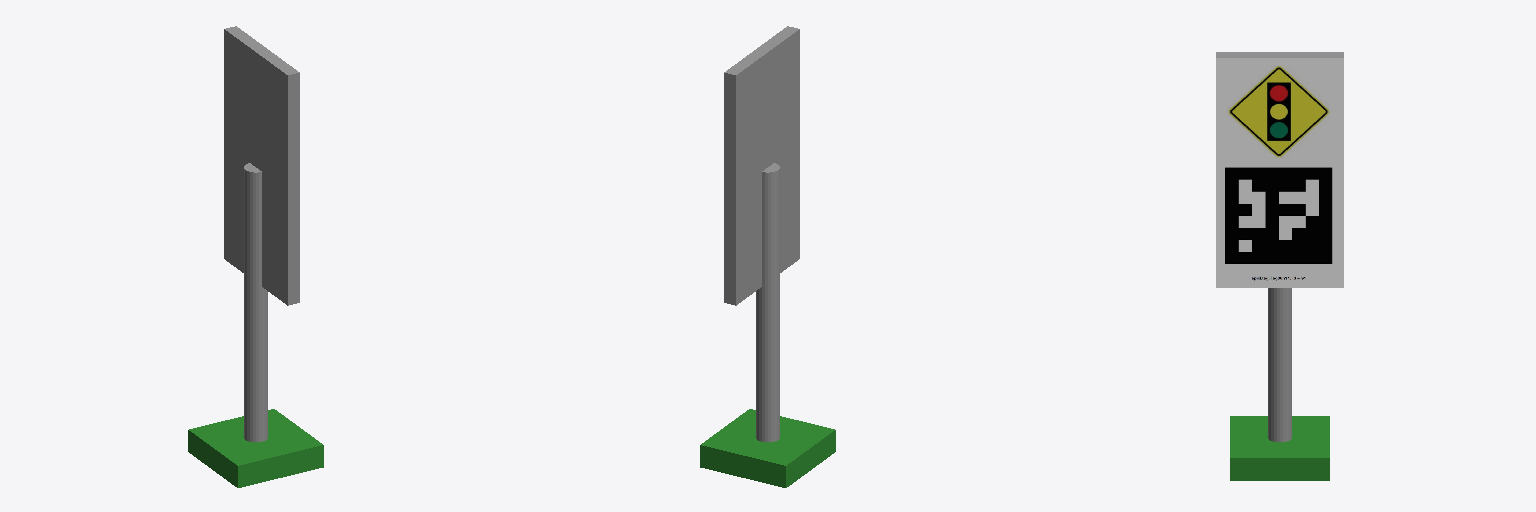
3 views of the same model, side by side, from view 1: azimuth 30°, elevation 25°; view 2: azimuth 150°, elevation 25°; view 3: azimuth 270°, elevation 25° (orthographic).
Parts seen in each view (by area): view 1: SketchUp.002_ID23, SketchUp_ID2, SketchUp.001_ID10; view 2: SketchUp.002_ID23, SketchUp_ID2, SketchUp.001_ID10; view 3: SketchUp.003_ID31, SketchUp_ID2, SketchUp.001_ID10, SketchUp.002_ID23.
Boxes of the visible parts, box(x1,y1,x2,y2) form: SketchUp.002_ID23: box(224, 26, 299, 305); SketchUp_ID2: box(188, 409, 323, 487); SketchUp.001_ID10: box(244, 163, 267, 441); SketchUp.002_ID23: box(724, 26, 799, 305); SketchUp_ID2: box(700, 409, 835, 487); SketchUp.001_ID10: box(756, 163, 779, 441); SketchUp.003_ID31: box(1216, 58, 1343, 287); SketchUp_ID2: box(1230, 416, 1329, 480); SketchUp.001_ID10: box(1268, 288, 1291, 441); SketchUp.002_ID23: box(1216, 52, 1343, 57).
Size of the model in its own units: 0.0508 by 0.2301 by 0.065.
3 materials, 1 textured.